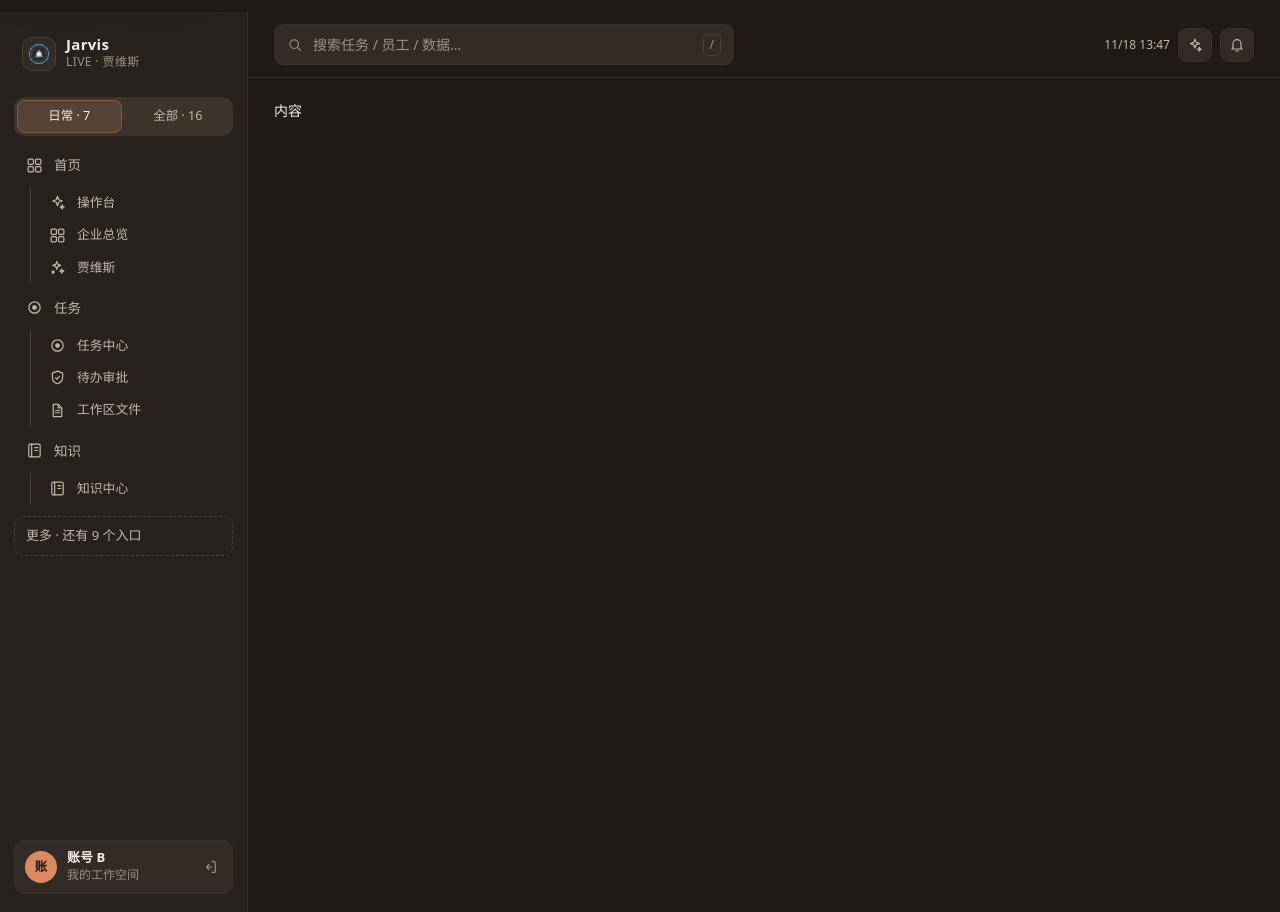
日常 / 全部切换（2026-11 收小） › 成员的日常没有系统设置，点「全部」也不会多出治理入口
The image size is (1280, 912).
Click the button "全部 · 16". click: (178, 117)
box: [126,100,230,133]
(page scrolled)
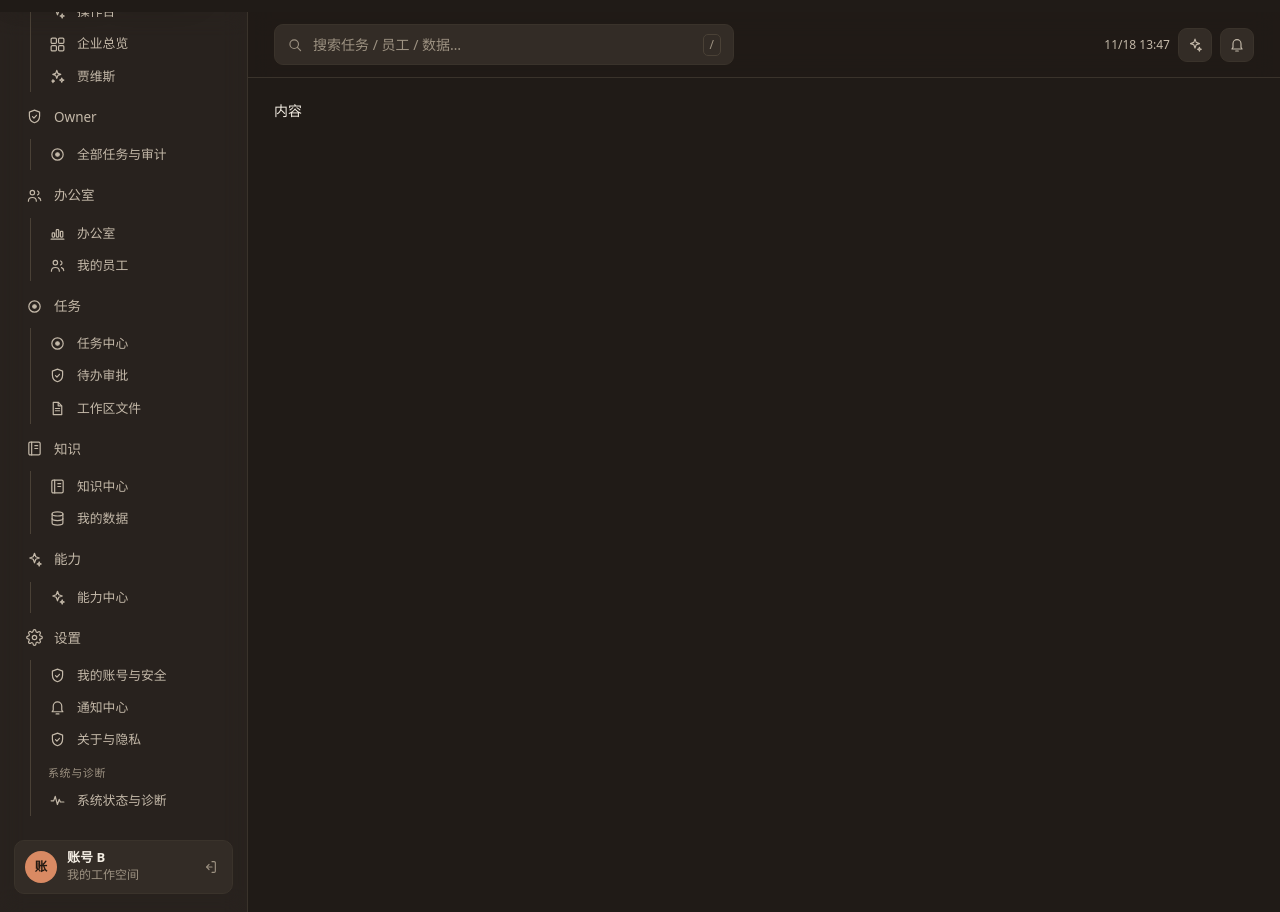
Now the text "我的账号与安全" is shown 2 times
Now the text "系统状态与诊断" is shown, box [77,791,167,809]
